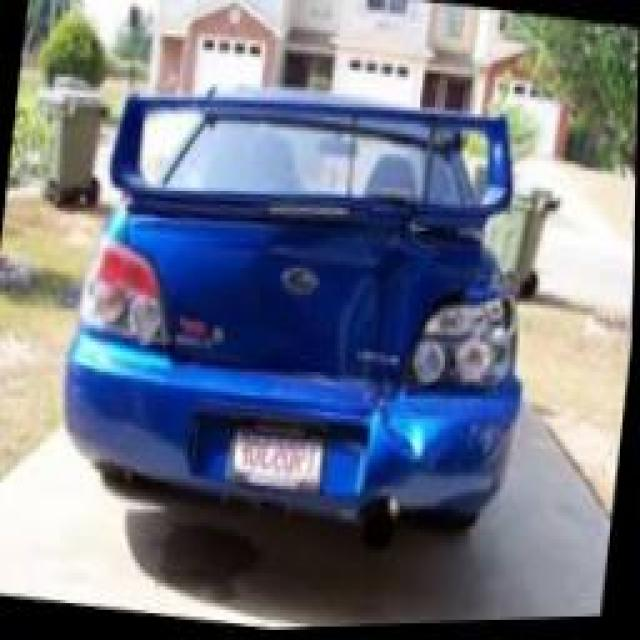rapairable: (379, 394, 442, 468)
replaceable: (344, 238, 521, 382)
